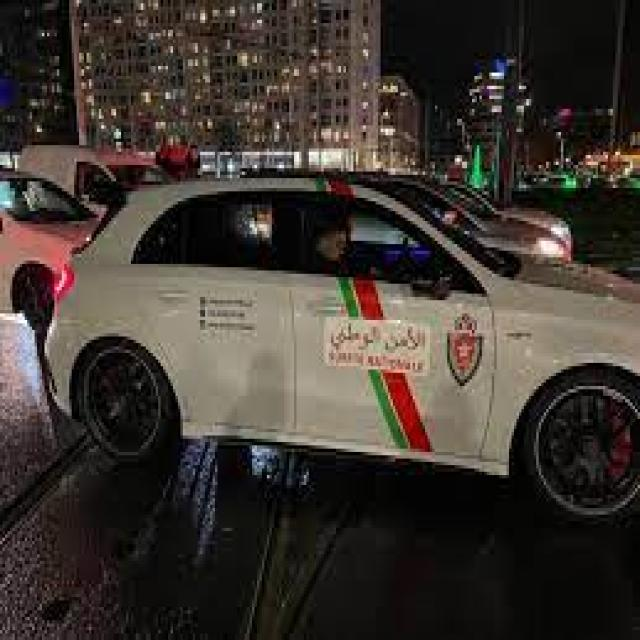police: (49, 144, 636, 513)
